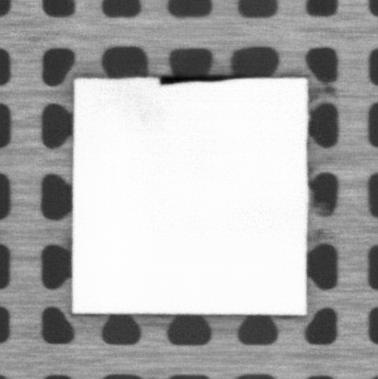DIE_BROKEN: (157, 73, 243, 87)
